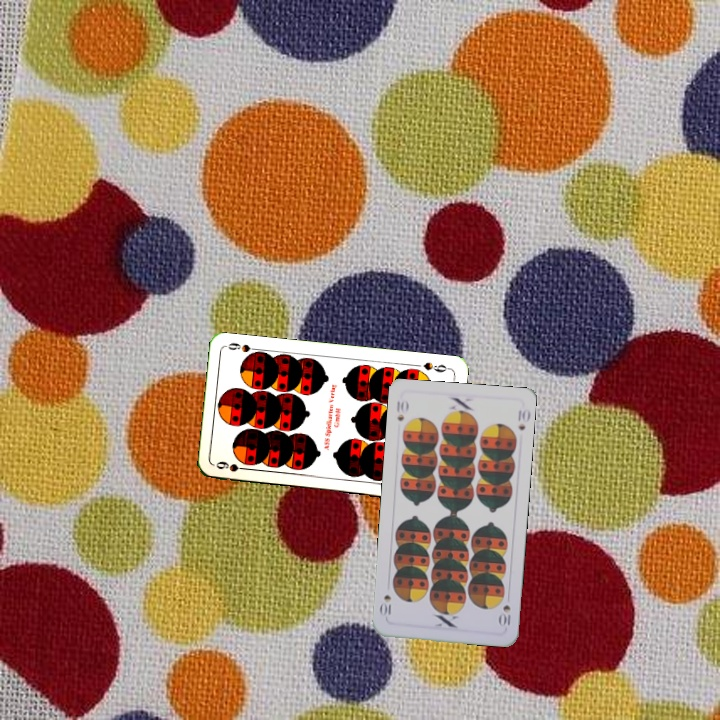S10: (495, 601, 513, 629), (393, 397, 410, 424)
S9: (212, 457, 253, 474), (419, 358, 452, 375)
